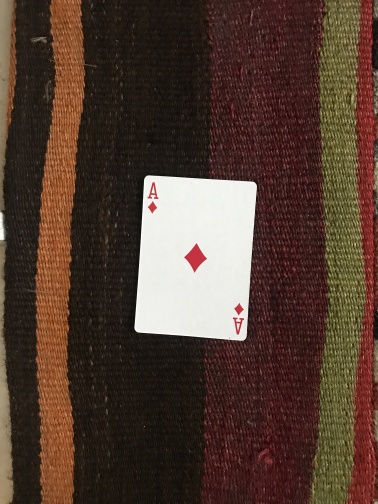ace: (133, 174, 258, 343)
